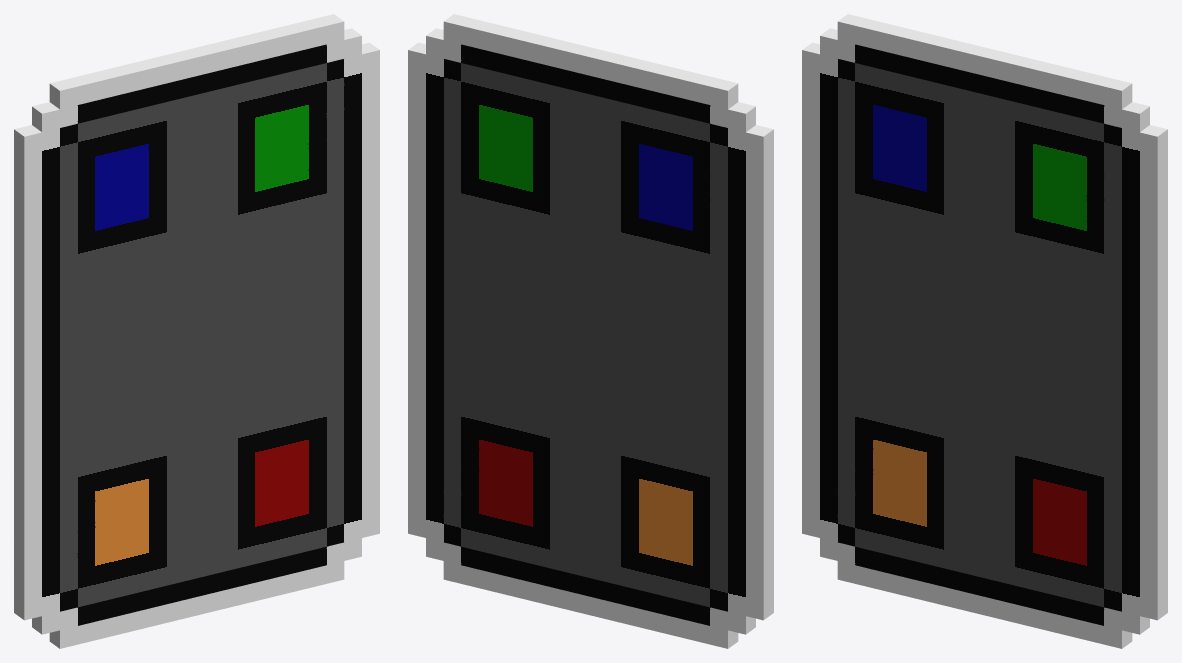
File: Card.fbx
3 views of the same model, side by side, from view 1: azimuth 30°, elevation 25°; view 2: azimuth 150°, elevation 25°; view 3: azimuth 330°, elevation 25° (orthographic).
Visible parts, largest first — view 1: Matrix; view 2: Matrix; view 3: Matrix.
Boxes of the visible parts, <box> form: Matrix: <box>14,14,379,648</box>; Matrix: <box>408,14,773,648</box>; Matrix: <box>802,14,1167,648</box>.
Size of the model in its own units: 20 by 30 by 1.
Materials: 1 (1 with a texture image).
